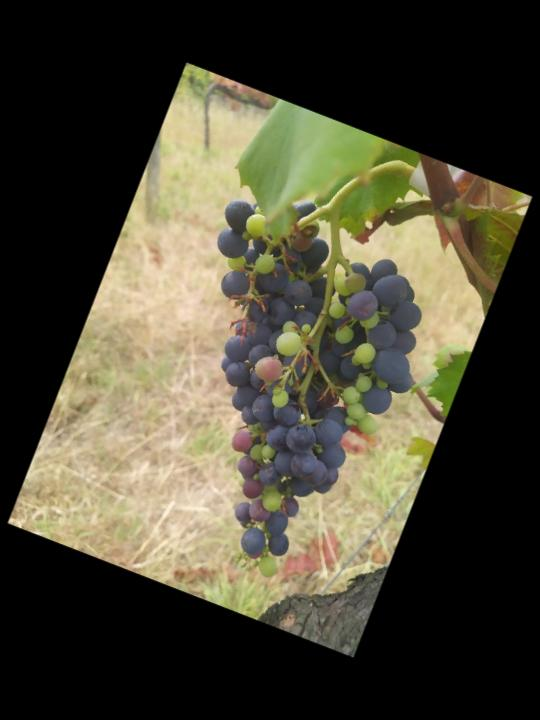grape: (104, 170, 465, 605)
